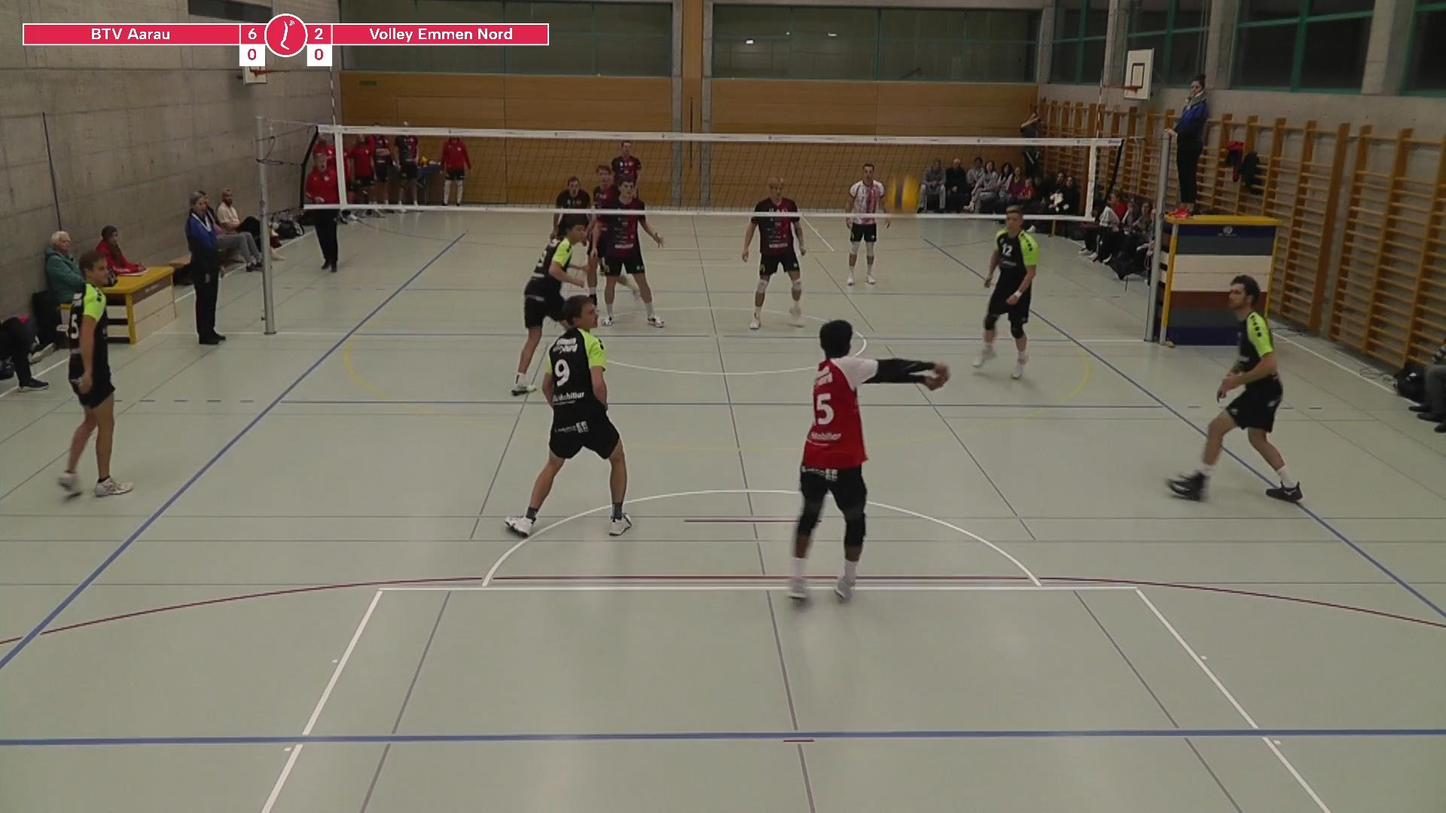ricezione: (772, 309, 950, 609)
